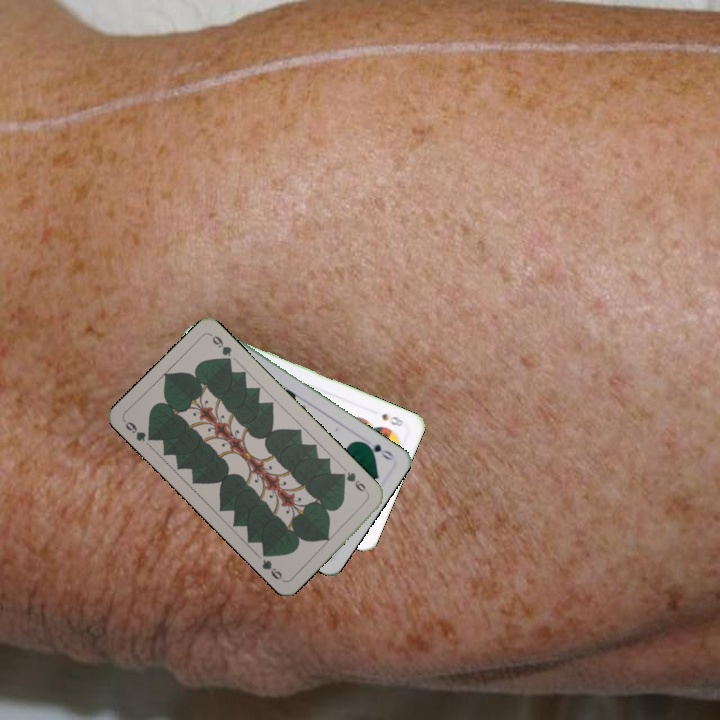G9: (336, 467, 371, 497), (120, 417, 157, 445)
GO: (359, 438, 396, 463)
S8: (378, 409, 406, 429)
